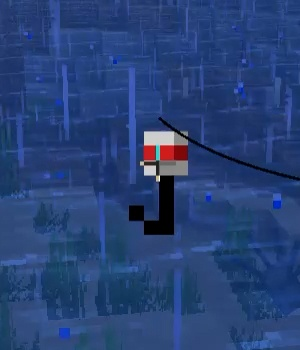up: (123, 124, 196, 239)
